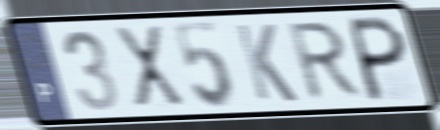3: (62, 27, 118, 112)
5: (170, 18, 237, 112)
K: (232, 22, 301, 105)
P: (347, 13, 409, 105)
R: (285, 18, 366, 104)
X: (110, 22, 190, 111)
